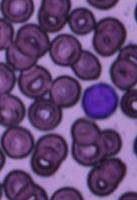L: (81, 81, 118, 120)
